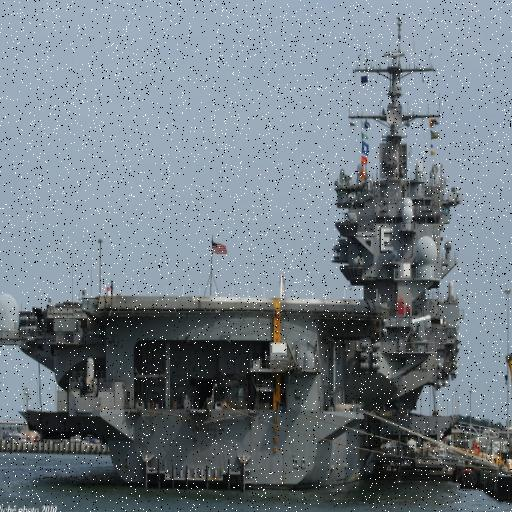Portanaves: (1, 6, 469, 497)
